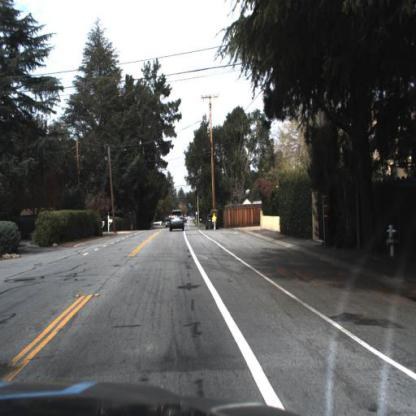car: (165, 205, 190, 236)
